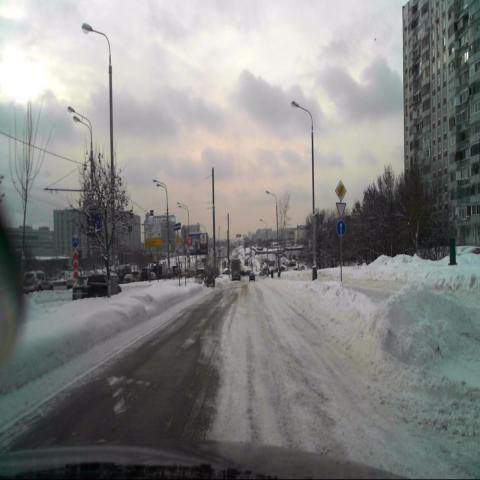2_2: (335, 179, 346, 202)
